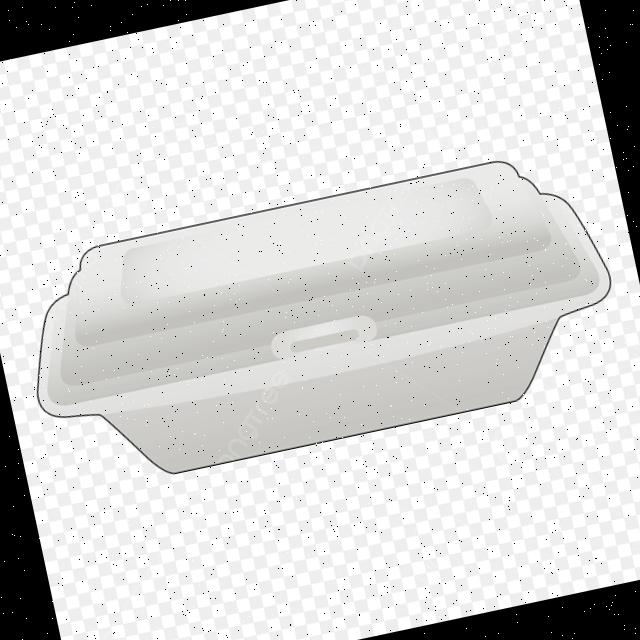styrofoam: (8, 140, 632, 500)
